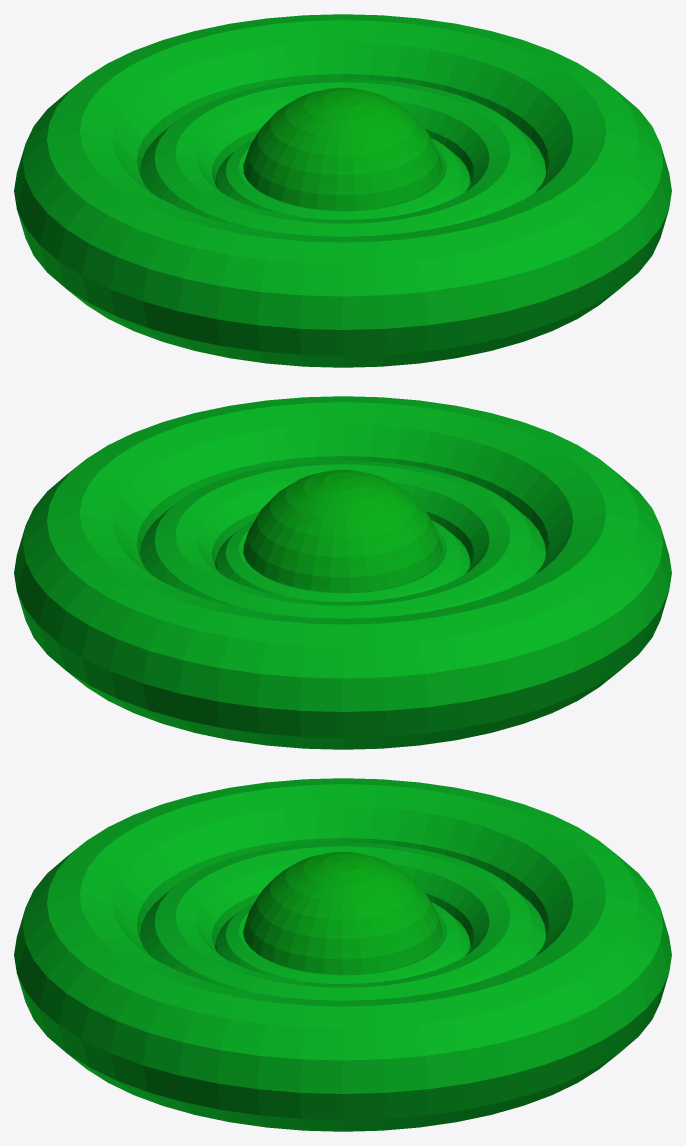
The model's file is enemy.obj.
The picture shows the model from 3 angles, top to bottom: view 1: azimuth 30°, elevation 25°; view 2: azimuth 150°, elevation 25°; view 3: azimuth 270°, elevation 25°; orthographic projection.
Visible parts, largest first — view 1: 球; view 2: 球; view 3: 球.
Part boxes in pixels (left/top/right/bottom): 球: left=14, top=14, right=671, bottom=367; 球: left=14, top=396, right=671, bottom=749; 球: left=14, top=778, right=671, bottom=1131.
Bounding box in the file's own units: 2.14 × 0.6718 × 2.14.
